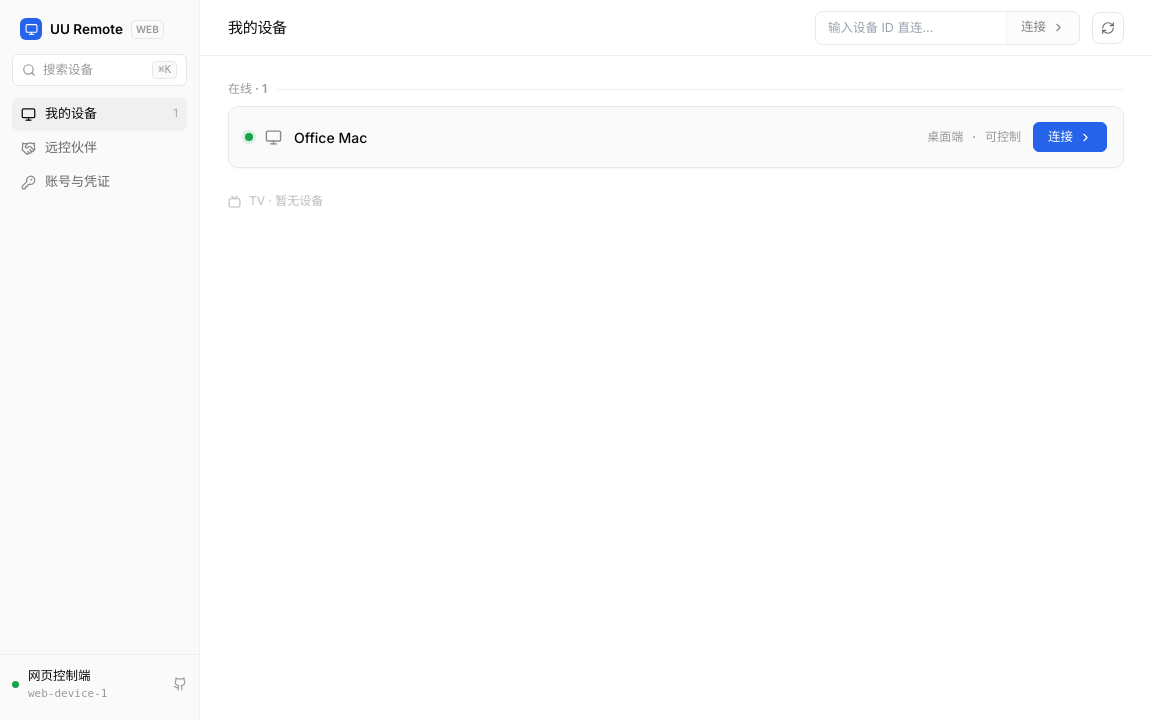
Test case: App remote assistance › cancels remote assistance before signaling when the joined device platform is missing
Expected: the heading "我的设备" is shown, [228,18,287,37]
Click the link "远控伙伴" at (59,147), box [21,139,97,156]
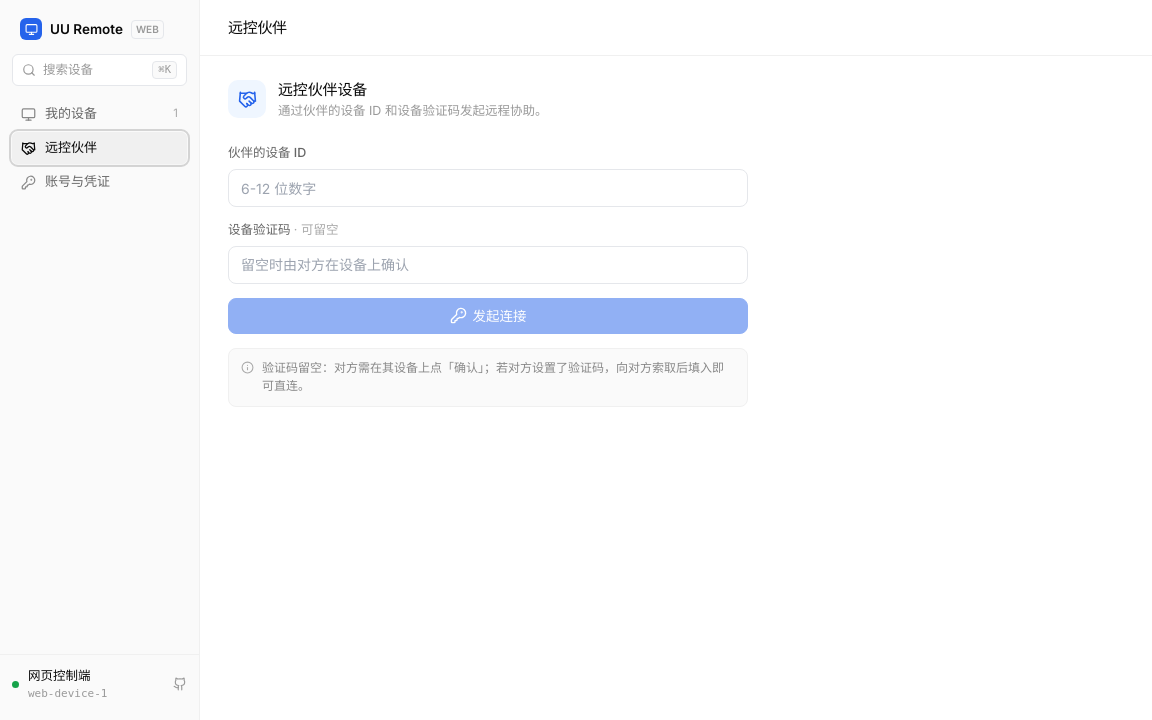
Expected: the heading "远控伙伴" is shown, [228,18,287,37]
Type "982123456" into the field labelled "伙伴的设备 ID" at (488,188), box [228,169,748,207]
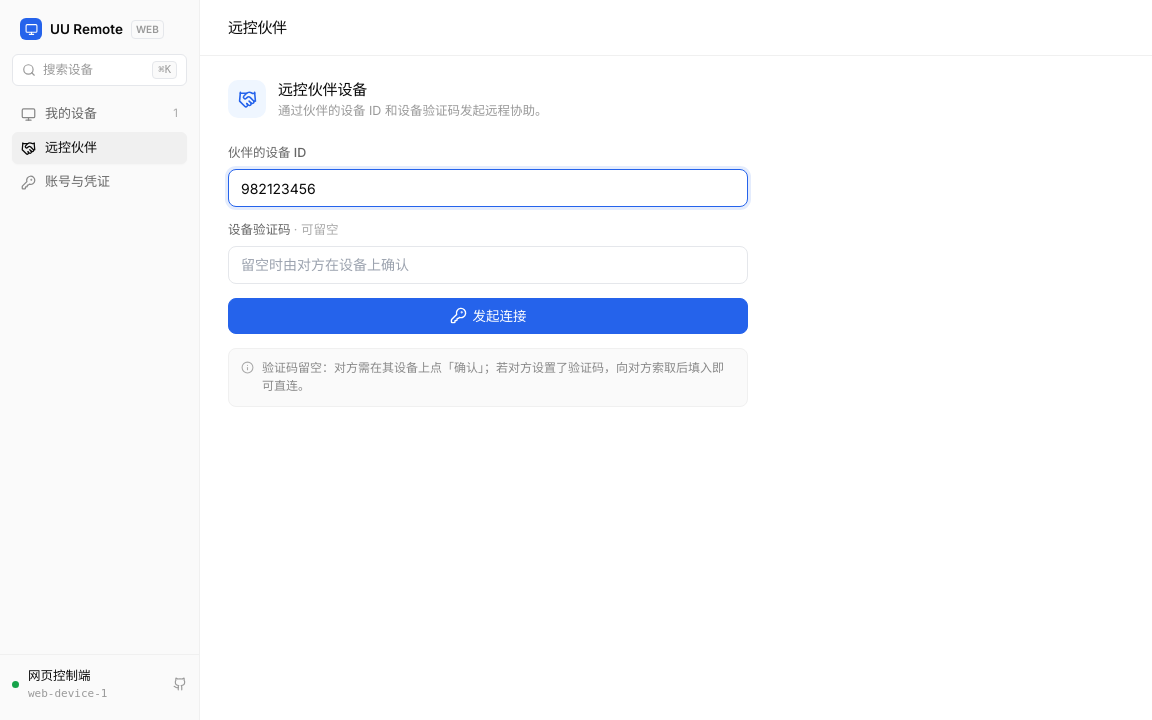
Type "L6026CCD" into the field labelled "设备验证码 · 可留空" at (488,265), box [228,246,748,284]
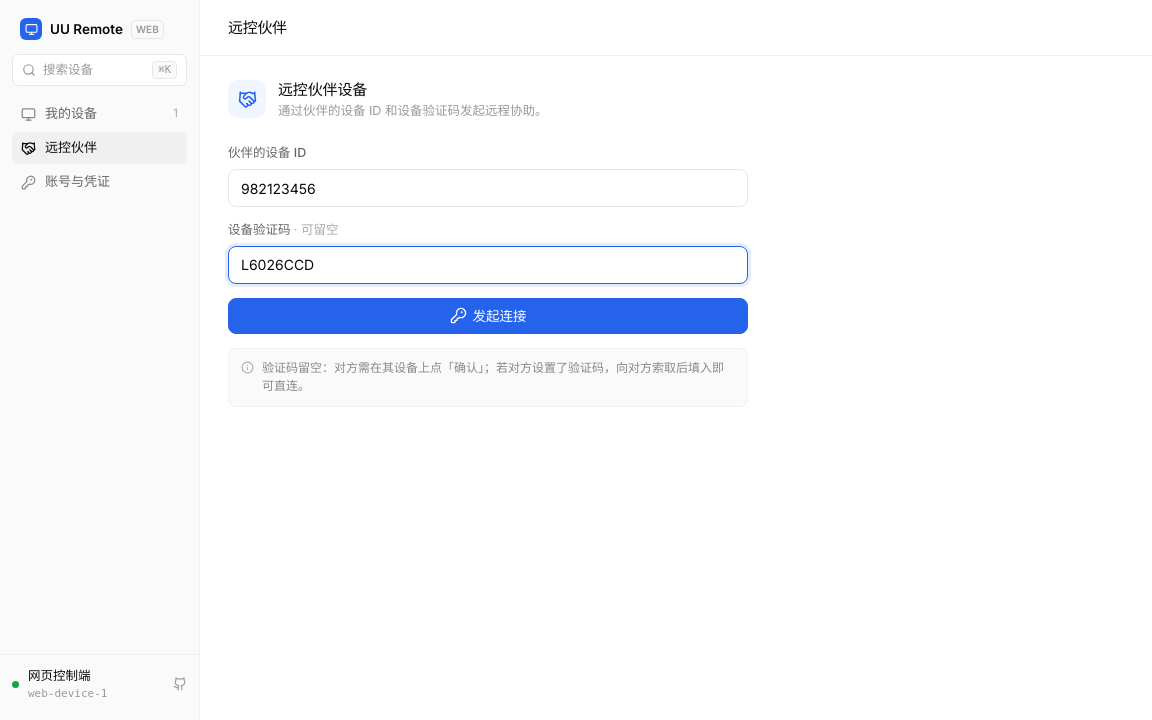
Click the button "发起连接" at (488,316), box [228,298,748,334]
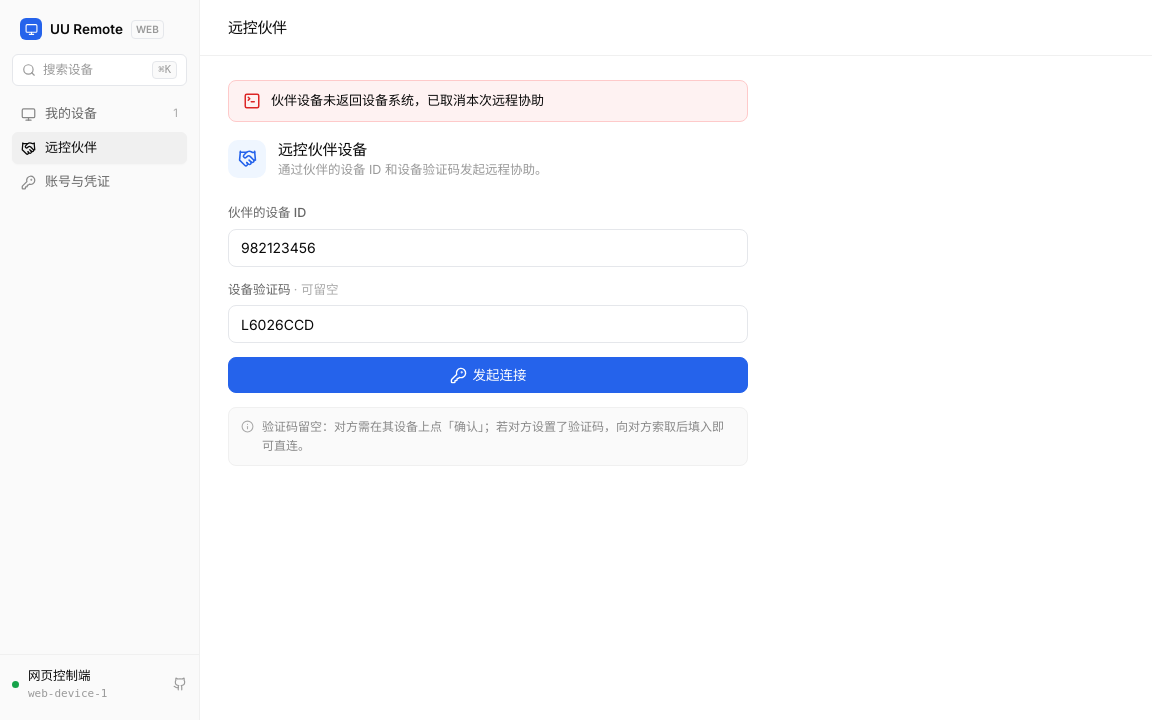
Expected: the message reads "伙伴设备未返回设备系统，已取消本次远程协助", [271,92,544,108]
